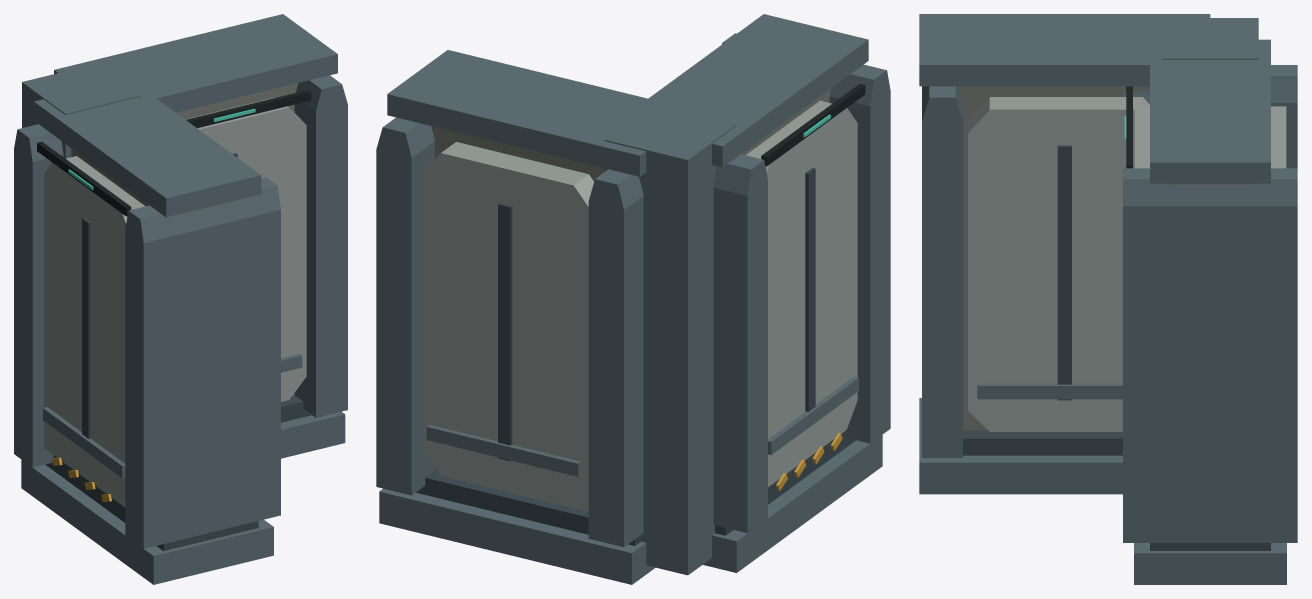
The model's file is wall_corner_d0.glb.
3 views of the same model, side by side, from view 1: azimuth 30°, elevation 25°; view 2: azimuth 150°, elevation 25°; view 3: azimuth 270°, elevation 25° (orthographic). The views are drawn at different scales.
Visible parts, largest first — view 1: GAME_MESH_STATIC.004; view 2: GAME_MESH_STATIC.004; view 3: GAME_MESH_STATIC.004.
Boxes of the visible parts, bbox=[...] form: GAME_MESH_STATIC.004: bbox=[14, 14, 347, 584]; GAME_MESH_STATIC.004: bbox=[376, 14, 890, 584]; GAME_MESH_STATIC.004: bbox=[919, 14, 1297, 584].
Size of the model in its own units: 2.6 by 3.21 by 2.6.
